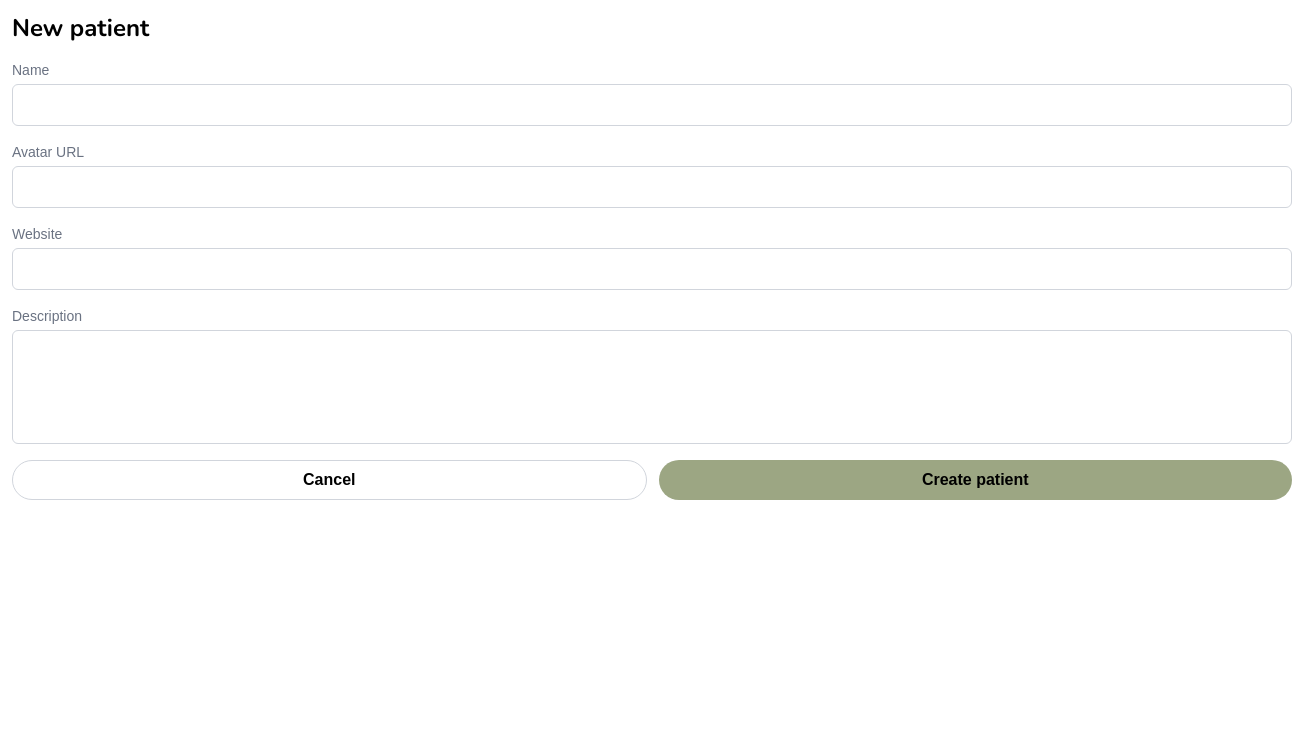
Test: PatientForm › create mode (patient=null) › shows name validation error on empty submit
Step 1. Click the button "Create patient" → (975, 480), box x1=658 y1=460 x2=1292 y2=500
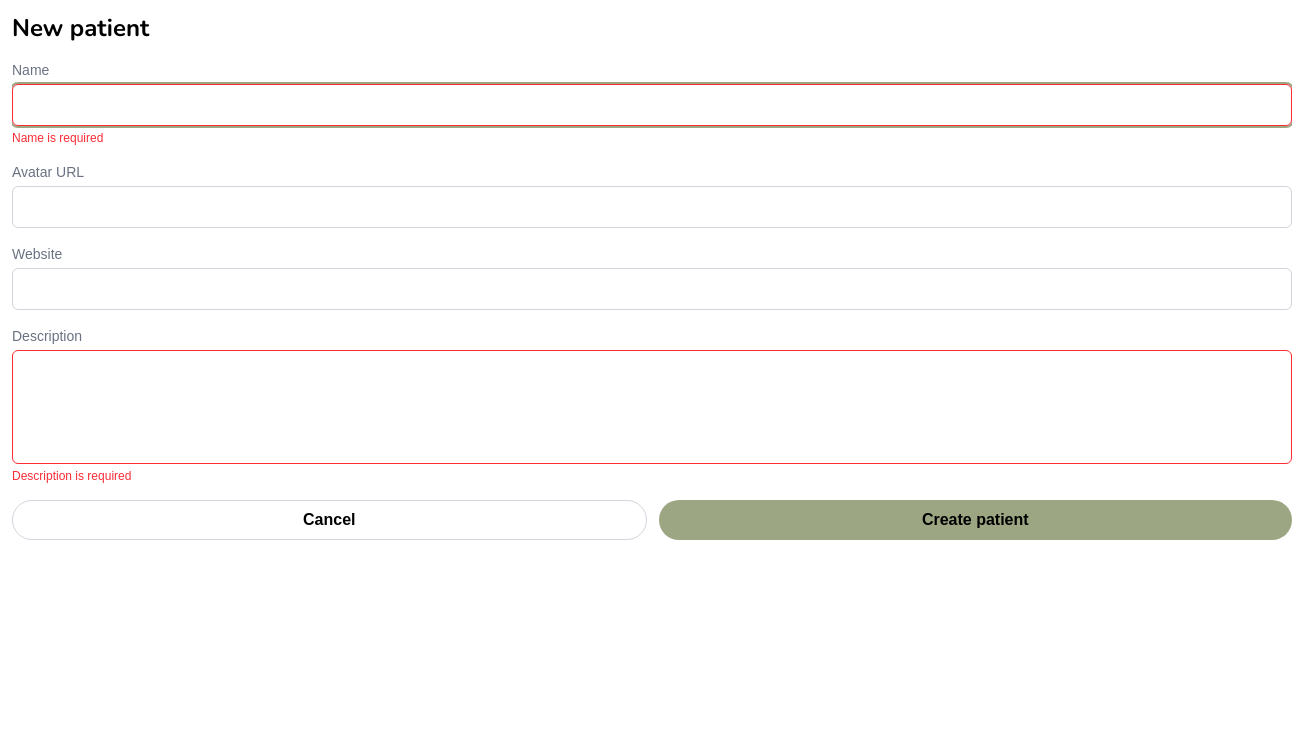
Expected: the text "Name is required" is shown, x1=12 y1=131 x2=103 y2=145
